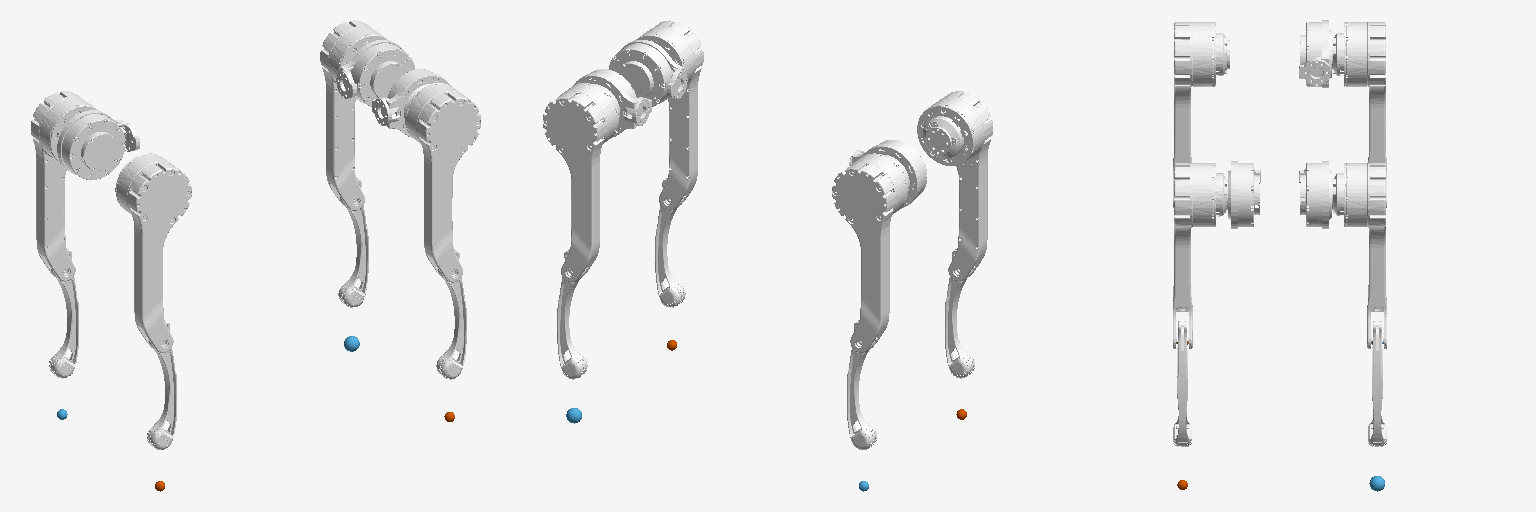
The robot description file, URDF, robot "mz_description":
<?xml version="1.0" encoding="utf-8"?>
<!-- This URDF was automatically created by SolidWorks to URDF Exporter! Originally created by [author] ([email redacted]) 
     Commit Version: 1.5.1-0-g916b5db  Build Version: 1.5.7152.31018
     For more information, please see http://wiki.ros.org/sw_urdf_exporter -->
<robot name="mz_description">
  <link name="base">
    <visual>
      <origin rpy="0 0 0" xyz="0 0 0"/>
      <geometry>
        <box size="0.001 0.001 0.001"/>
      </geometry>
    </visual>
  </link>
  <joint name="floating_base" type="fixed">
    <origin rpy="0 0 0" xyz="0 0 0"/>
    <parent link="base"/>
    <child link="trunk"/>
  </joint>

  <link name="trunk">
    <inertial>
      <origin xyz="0.022857 -0.012464 0.07487" rpy="0 0 0" />
      <mass value="4.9532" />
      <inertia ixx="0.016899" ixy="1.3713E-05" ixz="1.4164E-06" iyy="0.037802" iyz="0.00014959" izz="0.042043" />
    </inertial>
    <visual>
      <origin xyz="0 0 0" rpy="0 0 0" />
      <geometry>
        <mesh filename="package://mz_description/meshes/trunk.dae" />
      </geometry>
      <material name="">
        <color rgba="1 1 1 1" />
      </material>
    </visual>
    <collision>
      <origin xyz="0 0 0.075" rpy="0 0 0" />
      <geometry>
        <box size="0.470 0.3 0.150"/>
      </geometry>
    </collision>
  </link>

  <joint name="FR_hip_joint" type="revolute">
    <origin xyz="0.22626 -0.070008 0.075" rpy="0 0 0" />
    <parent link="trunk" />
    <child link="FR_hip" />
    <axis xyz="-1 0 0" />
    <limit lower="-3.14" upper="3.14" effort="20" velocity="50" />
  </joint>

  <link name="FR_hip">
    <inertial>
      <origin xyz="0.083541 -0.0016537 1.2994E-05" rpy="0 0 0" />
      <mass value="0.56406" />
      <inertia ixx="0.00061418" ixy="-3.2659E-06" ixz="8.3078E-08" iyy="0.0011773" iyz="-7.6935E-08" izz="0.00077313" />
    </inertial>
    <visual>
      <origin xyz="0 0 0" rpy="0 0 0" />
      <geometry>
        <mesh filename="package://mz_description/meshes/FR_hip.dae" />
      </geometry>
      <material name="">
        <color rgba="1 1 1 1" />
      </material>
    </visual>
    <collision>
      <origin xyz="0.088 0 0" rpy="-1.57 0 0" />
      <geometry>
        <cylinder length="0.05" radius="0.064"/>
      </geometry>
    </collision>
  </link>

  <joint name="FR_thigh_joint" type="revolute">
    <origin xyz="0.08775 -0.02125 0" rpy="0 0 0" />
    <parent link="FR_hip" />
    <child link="FR_thigh" />
    <axis xyz="0 1 0" />
    <limit lower="-3.14" upper="3.14" effort="20" velocity="50" />
  </joint>

  <link name="FR_thigh">
    <inertial>
      <origin xyz="-0.0027386 -0.061044 -0.025431" rpy="0 0 0" />
      <mass value="0.72376" />
      <inertia ixx="0.0046032" ixy="-6.3525E-05" ixz="-0.00028421" iyy="0.0048648" iyz="-0.00058614" izz="0.0010696" />
    </inertial>
    <visual>
      <origin xyz="0 0 0" rpy="0 0 0" />
      <geometry>
        <mesh filename="package://mz_description/meshes/thigh.dae" />
      </geometry>
      <material name="">
        <color rgba="1 1 1 1" />
      </material>
    </visual>
    <collision>
      <origin xyz="-0.012 -0.094 -0.15" rpy="0 0 0" />
      <geometry>
        <box size= "0.02 0.02 0.3"/>
      </geometry>
    </collision>
  </link>

  <joint name="FR_calf_joint" type="revolute">
    <origin xyz="0 -0.09275 -0.3" rpy="0 0 0" />
    <parent link="FR_thigh" />
    <child link="FR_calf" />
    <axis xyz="0 -1 0" />
    <limit lower="-3.14" upper="3.14" effort="20" velocity="50" />
  </joint>

  <link name="FR_calf">
    <inertial>
      <origin xyz="0.0079835 -6.7794E-06 -0.18022" rpy="0 0 0" />
      <mass value="0.12532" />
      <inertia ixx="0.00098513" ixy="-2.5969E-08" ixz="8.6003E-05" iyy="0.0010076" iyz="-3.5362E-08" izz="3.8819E-05" />
    </inertial>
    <visual>
      <origin xyz="0 0 0" rpy="0 0 0" />
      <geometry>
        <mesh filename="package://mz_description/meshes/calf.dae" />
      </geometry>
      <material name="">
        <color rgba="1 1 1 1" />
      </material>
    </visual>
    <collision>
      <origin xyz="0.004 0 -0.04" rpy="0 0 0" />
      <geometry>
        <box size= "0.015 0.022 0.075"/>
      </geometry>
    </collision>
    <collision>
      <origin xyz="0.022 0 -0.13" rpy="0 -0.34 0" />
      <geometry>
        <box size= "0.015 0.02 0.1"/>
      </geometry>
    </collision>
    <collision>
      <origin xyz="0.03 0 -0.240" rpy="0 0.35 0" />
      <geometry>
        <box size= "0.013 0.020 0.08"/>
      </geometry>
    </collision>
  </link>

  <joint name="FR_foot_fixed" type="fixed" dont_collapse="true">
    <origin rpy="0 0 0" xyz="0 0 -0.305"/>
    <parent link="FR_calf"/>
    <child link="FR_FOOT"/>
  </joint>

  <link name="FR_FOOT">
    <visual>
      <origin rpy="0 0 0" xyz="0 0 0"/>
      <geometry>
        <sphere radius="0.01"/>
      </geometry>
      <material name="orange"/>
    </visual>
    <collision>
      <origin rpy="0 0 0" xyz="0 0 0"/>
      <geometry>
        <sphere radius="0.022"/>
      </geometry>
    </collision>
    <inertial>
      <mass value="0.06"/>
      <inertia ixx="9.6e-06" ixy="0.0" ixz="0.0" iyy="9.6e-06" iyz="0.0" izz="9.6e-06"/>
    </inertial>
  </link>

  <joint name="FL_hip_joint" type="revolute">
    <origin xyz="0.22626 0.069992 0.075" rpy="0 0 0" />
    <parent link="trunk" />
    <child link="FL_hip" />
    <axis xyz="-1 0 0" />
    <limit lower="-3.14" upper="3.14" effort="20" velocity="50" />
  </joint>

  <link name="FL_hip">
    <inertial>
      <origin xyz="0.083541 0.0016537 -1.2994E-05" rpy="0 0 0" />
      <mass value="0.56406" />
      <inertia ixx="0.00061418" ixy="3.2659E-06" ixz="-8.3078E-08" iyy="0.0011773" iyz="-7.6935E-08" izz="0.00077313" />
    </inertial>
    <visual>
      <origin xyz="0 0 0" rpy="0 0 0" />
      <geometry>
        <mesh filename="package://mz_description/meshes/FL_hip.dae" />
      </geometry>
      <material name="">
        <color rgba="1 1 1 1" />
      </material>
    </visual>
    <collision>
      <origin xyz="0.088 0 0" rpy="-1.57 0 0" />
      <geometry>
        <cylinder length="0.05" radius="0.064"/>
      </geometry>
    </collision>
  </link>

  <joint name="FL_thigh_joint" type="revolute">
    <origin xyz="0.08775 0.02125 0" rpy="0 0 0" />
    <parent link="FL_hip" />
    <child link="FL_thigh" />
    <axis xyz="0 -1 0" />
    <limit lower="-3.14" upper="3.14" effort="20" velocity="50" />
  </joint>

  <link name="FL_thigh">
    <inertial>
      <origin xyz="-0.0027198 0.061044 -0.025411" rpy="0 0 0" />
      <mass value="0.72376" />
      <inertia ixx="0.0046042" ixy="6.3809E-05" ixz="-0.00028452" iyy="0.0048657" iyz="0.00058641" izz="0.0010695" />
    </inertial>
    <visual>
      <origin xyz="0 0 0" rpy="0 0 0" />
      <geometry>
        <mesh filename="package://mz_description/meshes/thigh_mirror.dae" />
      </geometry>
      <material name="">
        <color rgba="1 1 1 1" />
      </material>
    </visual>
    <collision>
      <origin xyz="-0.012 0.094 -0.15" rpy="0 0 0" />
      <geometry>
        <box size= "0.02 0.02 0.3"/>
      </geometry>
    </collision>
  </link>

  <joint name="FL_calf_joint" type="revolute">
    <origin xyz="0 0.09275 -0.3" rpy="0 0 0" />
    <parent link="FL_thigh" />
    <child link="FL_calf" />
    <axis xyz="0 -1 0" />
    <limit lower="-3.14" upper="3.14" effort="20" velocity="50" />
  </joint>

  <link name="FL_calf">
    <inertial>
      <origin xyz="0.0079835 -6.7598E-06 -0.18022" rpy="0 0 0" />
      <mass value="0.12532" />
      <inertia ixx="0.00098514" ixy="-2.5973E-08" ixz="8.6003E-05" iyy="0.0010076" iyz="-3.5062E-08" izz="3.8819E-05" />
    </inertial>
    <visual>
      <origin xyz="0 0 0" rpy="0 0 0" />
      <geometry>
        <mesh filename="package://mz_description/meshes/calf.dae" />
      </geometry>
      <material name="">
        <color rgba="1 1 1 1" />
      </material>
    </visual>
    <collision>
      <origin xyz="0.004 0 -0.04" rpy="0 0 0" />
      <geometry>
        <box size= "0.015 0.022 0.075"/>
      </geometry>
    </collision>
    <collision>
      <origin xyz="0.024 0 -0.13" rpy="0 -0.35 0" />
      <geometry>
        <box size= "0.015 0.02 0.08"/>
      </geometry>
    </collision>
    <collision>
      <origin xyz="0.04 0 -0.2" rpy="0 0 0" />
      <geometry>
        <box size= "0.013 0.020 0.06"/>
      </geometry>
    </collision>
    <collision>
      <origin xyz="0.024 0 -0.260" rpy="0 0.5 0" />
      <geometry>
        <box size= "0.013 0.020 0.06"/>
      </geometry>
    </collision>
  </link>

  <joint name="FL_foot_fixed" type="fixed" dont_collapse="true">
    <origin rpy="0 0 0" xyz="0 0 -0.302"/>
    <parent link="FL_calf"/>
    <child link="FL_FOOT"/>
  </joint>

  <link name="FL_FOOT">
    <visual>
      <origin rpy="0 0 0" xyz="0 0 0"/>
      <geometry>
        <sphere radius="0.015"/>
      </geometry>
      <material name="orange"/>
    </visual>
    <collision>
      <origin rpy="0 0 0" xyz="0 0 0"/>
      <geometry>
        <sphere radius="0.022"/>
      </geometry>
    </collision>
    <inertial>
      <mass value="0.06"/>
      <inertia ixx="9.6e-06" ixy="0.0" ixz="0.0" iyy="9.6e-06" iyz="0.0" izz="9.6e-06"/>
    </inertial>
  </link>

  <joint name="RR_hip_joint" type="revolute">
    <origin xyz="-0.22624 -0.070008 0.075" rpy="0 0 0" />
    <parent link="trunk" />
    <child link="RR_hip" />
    <axis xyz="1 0 0" />
    <limit lower="-3.14" upper="3.14" effort="20" velocity="50" />
  </joint>

  <link name="RR_hip">
    <inertial>
      <origin xyz="-0.083541 -0.0016537 -1.2994E-05" rpy="0 0 0" />
      <mass value="0.56406" />
      <inertia ixx="0.00061418" ixy="3.2659E-06" ixz="8.3078E-08" iyy="0.0011773" iyz="7.6935E-08" izz="0.00077313" />
    </inertial>
    <visual>
      <origin xyz="0 0 0" rpy="0 0 0" />
      <geometry>
        <mesh filename="package://mz_description/meshes/RR_hip.dae" />
      </geometry>
      <material name="">
        <color rgba="1 1 1 1" />
      </material>
    </visual>
    <collision>
      <origin xyz="-0.088 0 0" rpy="-1.57 0 0" />
      <geometry>
        <cylinder length="0.05" radius="0.064"/>
      </geometry>
    </collision>
  </link>

  <joint name="RR_thigh_joint" type="revolute">
    <origin xyz="-0.08775 -0.02125 0" rpy="0 0 0" />
    <parent link="RR_hip" />
    <child link="RR_thigh" />
    <axis xyz="0 1 0" />
    <limit lower="-3.14" upper="3.14" effort="20" velocity="50" />
  </joint>

  <link name="RR_thigh">
    <inertial>
      <origin xyz="-0.0027386 -0.061044 -0.025431" rpy="0 0 0" />
      <mass value="0.72376" />
      <inertia ixx="0.0046032" ixy="-6.3525E-05" ixz="-0.00028421" iyy="0.0048648" iyz="-0.00058614" izz="0.0010696" />
    </inertial>
    <visual>
      <origin xyz="0 0 0" rpy="0 0 0" />
      <geometry>
        <mesh filename="package://mz_description/meshes/thigh.dae" />
      </geometry>
      <material name="">
        <color rgba="1 1 1 1" />
      </material>
    </visual>
    <collision>
      <origin xyz="-0.012 -0.094 -0.15" rpy="0 0 0" />
      <geometry>
        <box size= "0.02 0.02 0.3"/>
      </geometry>
    </collision>
  </link>

  <joint name="RR_calf_joint" type="revolute">
    <origin xyz="0 -0.09275 -0.3" rpy="0 0 0" />
    <parent link="RR_thigh" />
    <child link="RR_calf" />
    <axis xyz="0 -1 0" />
    <limit lower="-3.14" upper="3.14" effort="20" velocity="50" />
  </joint>

  <link name="RR_calf">
    <inertial>
      <origin xyz="0.0079835 -6.7795E-06 -0.18022" rpy="0 0 0" />
      <mass value="0.12532" />
      <inertia ixx="0.00098513" ixy="-2.5969E-08" ixz="8.6003E-05" iyy="0.0010076" iyz="-3.5362E-08" izz="3.8819E-05" />
    </inertial>
    <visual>
      <origin xyz="0 0 0" rpy="0 0 0" />
      <geometry>
        <mesh filename="package://mz_description/meshes/calf.dae" />
      </geometry>
      <material name="">
        <color rgba="1 1 1 1" />
      </material>
    </visual>
    <collision>
      <origin xyz="0.004 0 -0.04" rpy="0 0 0" />
      <geometry>
        <box size= "0.015 0.022 0.075"/>
      </geometry>
    </collision>
    <collision>
      <origin xyz="0.024 0 -0.13" rpy="0 -0.35 0" />
      <geometry>
        <box size= "0.015 0.02 0.08"/>
      </geometry>
    </collision>
    <collision>
      <origin xyz="0.04 0 -0.2" rpy="0 0 0" />
      <geometry>
        <box size= "0.013 0.020 0.06"/>
      </geometry>
    </collision>
    <collision>
      <origin xyz="0.024 0 -0.260" rpy="0 0.5 0" />
      <geometry>
        <box size= "0.013 0.020 0.06"/>
      </geometry>
    </collision>
  </link>

  <joint name="RR_foot_fixed" type="fixed" dont_collapse="true">
    <origin rpy="0 0 0" xyz="0 0 -0.302"/>
    <parent link="RR_calf"/>
    <child link="RR_FOOT"/>
  </joint>
  <link name="RR_FOOT">
    <visual>
      <origin rpy="0 0 0" xyz="0 0 0"/>
      <geometry>
        <sphere radius="0.01"/>
      </geometry>
      <material name="orange"/>
    </visual>
    <collision>
      <origin rpy="0 0 0" xyz="0 0 0"/>
      <geometry>
        <sphere radius="0.022"/>
      </geometry>
    </collision>
    <inertial>
      <mass value="0.06"/>
      <inertia ixx="9.6e-06" ixy="0.0" ixz="0.0" iyy="9.6e-06" iyz="0.0" izz="9.6e-06"/>
    </inertial>
  </link>

  <joint name="RL_hip_joint" type="revolute">
    <origin xyz="-0.22624 0.069992 0.075" rpy="0 0 0" />
    <parent link="trunk" />
    <child link="RL_hip" />
    <axis xyz="1 0 0" />
    <limit lower="-3.14" upper="3.14" effort="20" velocity="50" />
  </joint>

  <link name="RL_hip">
    <inertial>
      <origin xyz="0 0 0" rpy="0 0 0" />
      <mass value="0" />
      <inertia ixx="0" ixy="0" ixz="0" iyy="0" iyz="0" izz="0" />
    </inertial>
    <visual>
      <origin xyz="0 0 0" rpy="0 0 0" />
      <geometry>
        <mesh filename="package://mz_description/meshes/RL_hip.dae" />
      </geometry>
      <material name="">
        <color rgba="1 1 1 1" />
      </material>
    </visual>
    <collision>
      <origin xyz="-0.088 0 0" rpy="-1.57 0 0" />
      <geometry>
        <cylinder length="0.05" radius="0.064"/>
      </geometry>
    </collision>
  </link>

  <joint name="RL_thigh_joint" type="revolute">
    <origin xyz="-0.08775 0.02125 0" rpy="0 0 0" />
    <parent link="RL_hip" />
    <child link="RL_thigh" />
    <axis xyz="0 -1 0" />
    <limit lower="-3.14" upper="3.14" effort="20" velocity="50" />
  </joint>

  <link name="RL_thigh">
    <inertial>
      <origin xyz="-0.0027198 0.061044 -0.025411" rpy="0 0 0" />
      <mass value="0.72376" />
      <inertia ixx="0.0046042" ixy="6.3809E-05" ixz="-0.00028452" iyy="0.0048657" iyz="0.00058641" izz="0.0010695" />
    </inertial>
    <visual>
      <origin xyz="0 0 0" rpy="0 0 0" />
      <geometry>
        <mesh filename="package://mz_description/meshes/thigh_mirror.dae" />
      </geometry>
      <material name="">
        <color rgba="1 1 1 1" />
      </material>
    </visual>
    <collision>
      <origin xyz="-0.012 0.094 -0.15" rpy="0 0 0" />
      <geometry>
        <box size= "0.02 0.02 0.3"/>
      </geometry>
    </collision>
  </link>

  <joint name="RL_calf_joint" type="revolute">
    <origin xyz="0 0.09275 -0.3" rpy="0 0 0" />
    <parent link="RL_thigh" />
    <child link="RL_calf" />
    <axis xyz="0 -1 0" />
    <limit lower="-3.14" upper="3.14" effort="20" velocity="50" />
  </joint>

  <link name="RL_calf">
    <inertial>
      <origin xyz="0.0079835 -6.7801E-06 -0.18022" rpy="0 0 0" />
      <mass value="0.12532" />
      <inertia ixx="0.00098513" ixy="-2.597E-08" ixz="8.6003E-05" iyy="0.0010076" iyz="-3.5361E-08" izz="3.8819E-05" />
    </inertial>
    <visual>
      <origin xyz="0 0 0" rpy="0 0 0" />
      <geometry>
        <mesh filename="package://mz_description/meshes/calf.dae" />
      </geometry>
      <material name="">
        <color rgba="1 1 1 1" />
      </material>
    </visual>
    <collision>
      <origin xyz="0.004 0 -0.04" rpy="0 0 0" />
      <geometry>
        <box size= "0.015 0.022 0.075"/>
      </geometry>
    </collision>
    <collision>
      <origin xyz="0.024 0 -0.13" rpy="0 -0.35 0" />
      <geometry>
        <box size= "0.015 0.02 0.08"/>
      </geometry>
    </collision>
    <collision>
      <origin xyz="0.04 0 -0.2" rpy="0 0 0" />
      <geometry>
        <box size= "0.013 0.020 0.06"/>
      </geometry>
    </collision>
    <collision>
      <origin xyz="0.024 0 -0.260" rpy="0 0.5 0" />
      <geometry>
        <box size= "0.013 0.020 0.06"/>
      </geometry>
    </collision>
  </link>

  <joint name="RL_foot_fixed" type="fixed" dont_collapse="true">
    <origin rpy="0 0 0" xyz="0 0 -0.302"/>
    <parent link="RL_calf"/>
    <child link="RL_FOOT"/>
  </joint>

  <link name="RL_FOOT">
    <visual>
      <origin rpy="0 0 0" xyz="0 0 0"/>
      <geometry>
        <sphere radius="0.01"/>
      </geometry>
      <material name="orange"/>
    </visual>
    <collision>
      <origin rpy="0 0 0" xyz="0 0 0"/>
      <geometry>
        <sphere radius="0.022"/>
      </geometry>
    </collision>
    <inertial>
      <mass value="0.06"/>
      <inertia ixx="9.6e-06" ixy="0.0" ixz="0.0" iyy="9.6e-06" iyz="0.0" izz="9.6e-06"/>
    </inertial>
  </link>

</robot>

--- Facts derived from the render (not from the file) ---
3 views of the same robot in one strip: view 1: azimuth 30°, elevation 25°; view 2: azimuth 150°, elevation 25°; view 3: azimuth 270°, elevation 25° (orthographic).
Robot: mz_description — 18 links, 17 joints (12 revolute, 5 fixed); root link base; default pose: all joints at 0.
Links seen in each view (by area): view 1: RR_thigh, FR_thigh, RL_thigh, FL_thigh, RL_hip, FL_hip, FR_hip, FL_calf, FR_calf, RR_calf, RL_calf; view 2: RL_thigh, FL_thigh, RR_thigh, FR_thigh, FR_hip, FL_hip, RL_hip, FL_calf, FR_calf, RL_calf, RR_calf; view 3: FR_thigh, FL_thigh, RR_thigh, RL_thigh, RL_hip, FR_hip, FL_hip, FR_calf, FL_calf.
Boxes of the visible links, x1,y1,x2,y2 form: RR_thigh: (115,153,191,352); FR_thigh: (405,83,480,282); RL_thigh: (31,91,98,281); FL_thigh: (320,20,387,210); RL_hip: (57,110,139,179); FL_hip: (336,40,414,106); FR_hip: (372,69,450,137); FL_calf: (338,178,368,307); FR_calf: (436,249,466,379); RR_calf: (147,320,176,449); RL_calf: (49,249,78,378); RL_thigh: (832,153,908,352); FL_thigh: (543,83,618,282); RR_thigh: (917,91,992,281); FR_thigh: (636,20,703,210); FR_hip: (609,40,687,106); FL_hip: (573,69,651,137); RL_hip: (849,140,926,208); FL_calf: (557,249,587,379); FR_calf: (655,178,685,307); RL_calf: (847,320,876,449); RR_calf: (945,249,974,378); FR_thigh: (1173,163,1227,348); FL_thigh: (1332,163,1386,348); RR_thigh: (1173,22,1229,207); RL_thigh: (1332,22,1386,207); RL_hip: (1299,20,1331,87); FR_hip: (1228,161,1260,228); FL_hip: (1299,161,1331,228); FR_calf: (1173,321,1191,446); FL_calf: (1368,321,1386,446).
Bounding box of the posed robot: 0.7555 × 0.406 × 0.6809 m (x, y, z).
11 mesh visuals loaded from 8 distinct referenced files (6 Collada DAE); not drawn: 2 (reference not matched to a file when rendering).